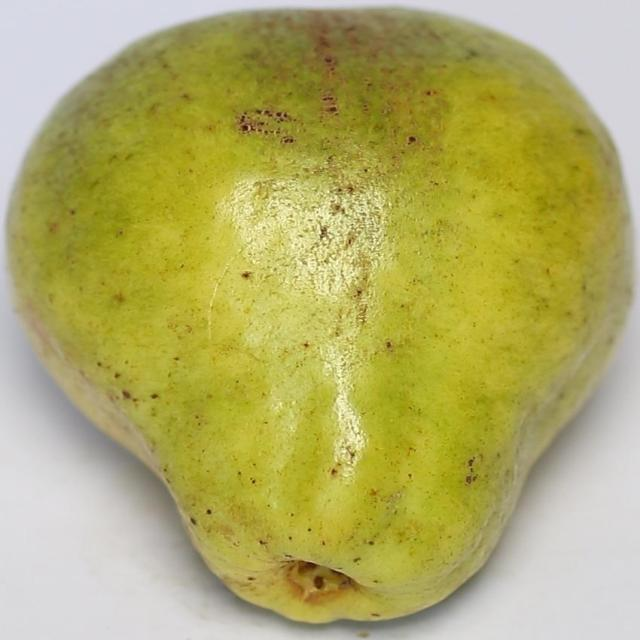Good_Guava: (4, 5, 635, 628)
